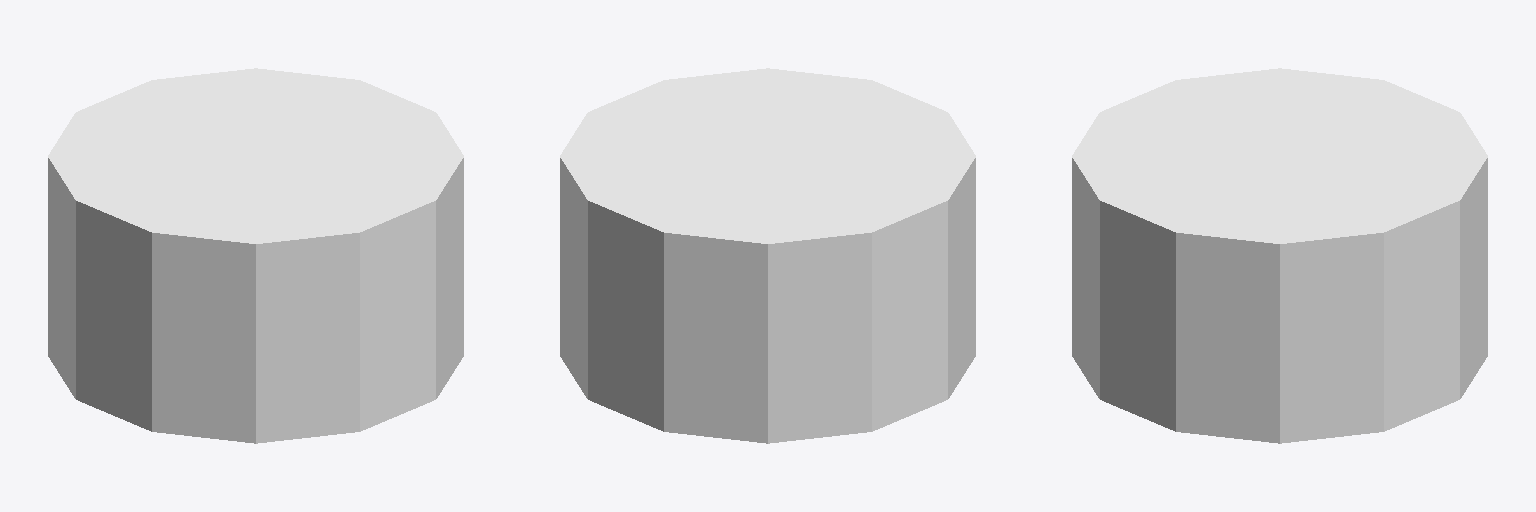
File: Wood_Stump.obj
3 views of the same model, side by side, from view 1: azimuth 30°, elevation 25°; view 2: azimuth 150°, elevation 25°; view 3: azimuth 270°, elevation 25° (orthographic).
Visible parts, largest first — view 1: Cylinder.001_Cylinder.008; view 2: Cylinder.001_Cylinder.008; view 3: Cylinder.001_Cylinder.008.
Part boxes in pixels (left/top/right/bottom): Cylinder.001_Cylinder.008: left=48, top=68, right=463, bottom=443; Cylinder.001_Cylinder.008: left=560, top=68, right=975, bottom=443; Cylinder.001_Cylinder.008: left=1072, top=68, right=1487, bottom=443.
Bounding box in the file's own units: 0.2689 × 0.142 × 0.2689.